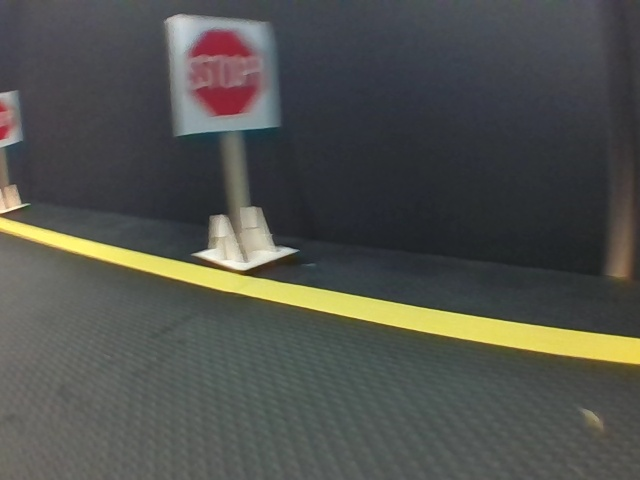stop: (168, 13, 275, 128), (1, 92, 20, 145)
